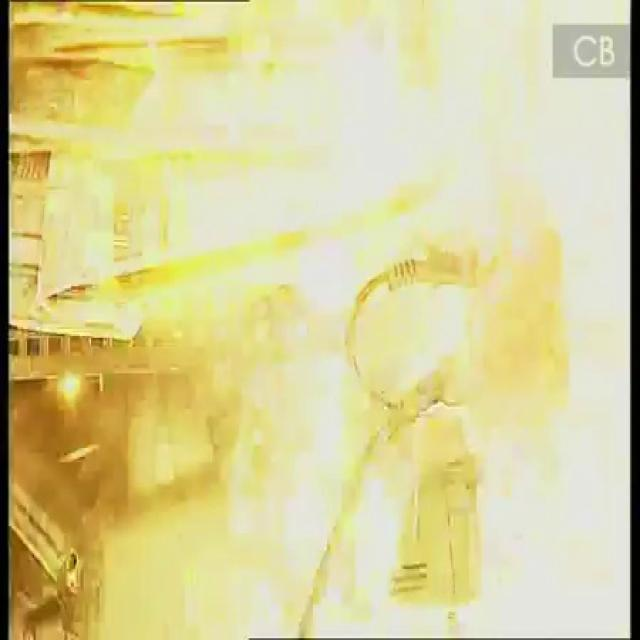fire: (160, 13, 523, 594)
